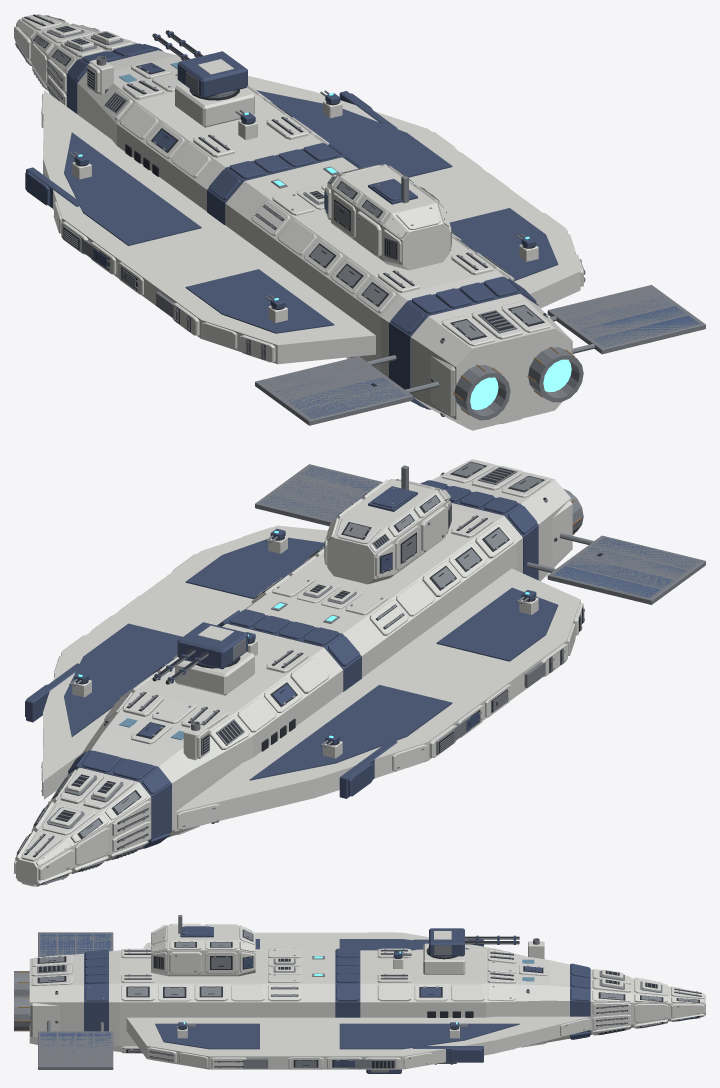
File: earth_air_defense_cruiser_t5.glb
3 views of the same model, one above another, from view 1: azimuth 30°, elevation 25°; view 2: azimuth 150°, elevation 25°; view 3: azimuth 270°, elevation 25° (orthographic). The views are drawn at different scales.
Visible parts, largest first — view 1: FleetHull, mesh_turret_gun_1; view 2: FleetHull, mesh_turret_gun_1; view 3: FleetHull, mesh_turret_gun_1, mesh_recoil_gun_1.
Part boxes in pixels (box(x1,y1,x2,y2)): FleetHull: box(14, 14, 705, 430); mesh_turret_gun_1: box(177, 51, 247, 98); FleetHull: box(14, 459, 705, 886); mesh_turret_gun_1: box(177, 622, 247, 669); FleetHull: box(14, 915, 705, 1069); mesh_turret_gun_1: box(428, 928, 464, 957); mesh_recoil_gun_1: box(465, 935, 519, 944).
Size of the model in its own units: 152 by 79.8 by 330.
